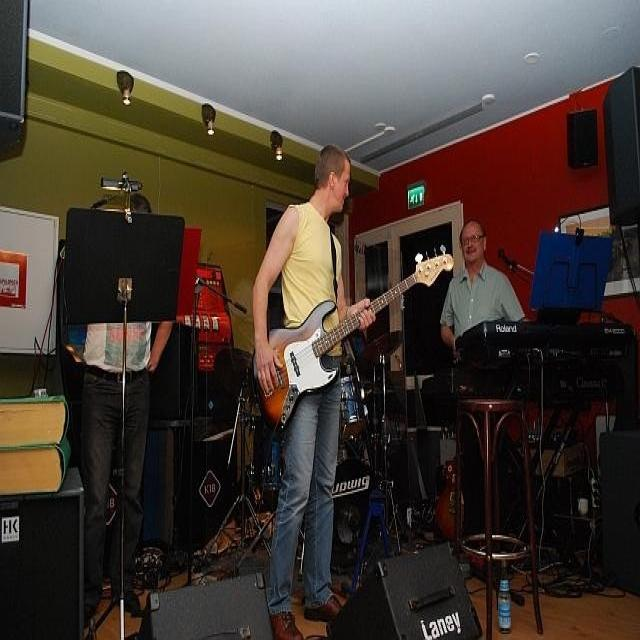drums: (218, 358, 421, 544)
